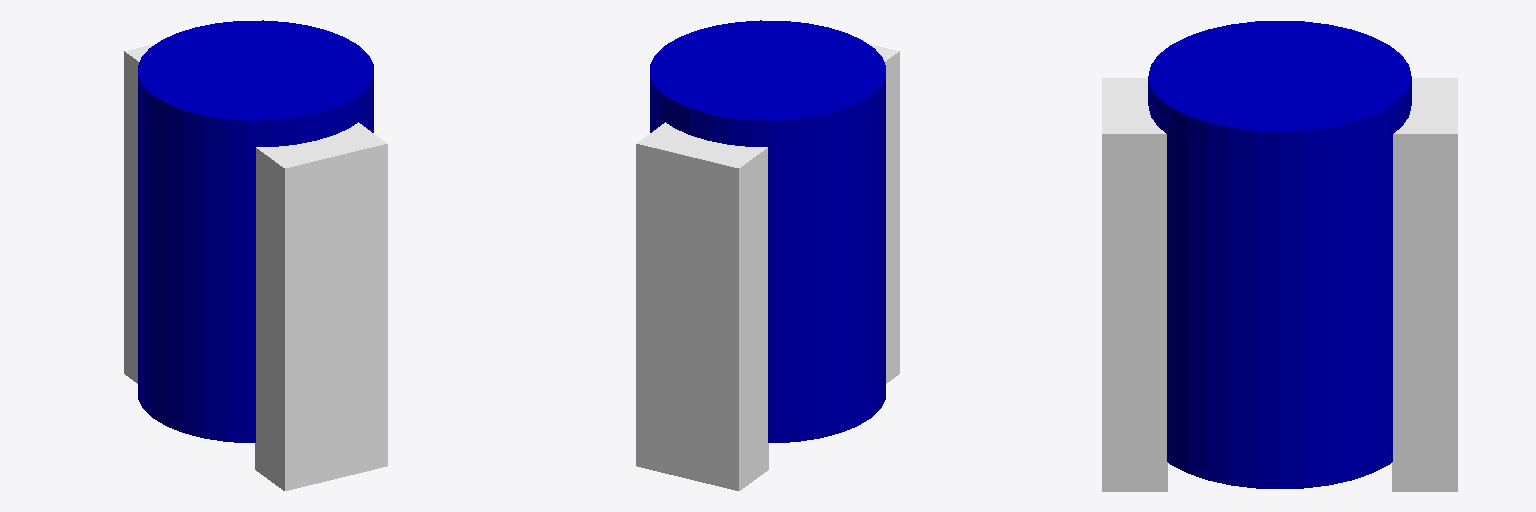
robot.urdf — myfirstrobot:
<?xml version="1.0"?>

<robot name="myfirstrobot">

	<material name="blue">
		<color rgba="0 0 0.8 1"/>
	</material>

	<material name="white">
		<color rgba="1 1 1 1"/>
	</material>

  <link name="base_link">
    <visual>
      <geometry>
        <cylinder length="0.6" radius="0.2"/>
      </geometry>
      <material name="blue"/>
    </visual>
  </link>

  <link name="right_leg">
  	<visual>
  		<geometry>
  			<box size="0.6 0.1 0.2"/>
  		</geometry>
  		<origin rpy="0 1.571 0"  xyz="0 0 -0.3"/>
  		<material name="white"/>
  	</visual>
  </link>

  <joint name="base_to_right_leg" type="fixed">
  	<parent link="base_link"/>
  	<child link="right_leg"/>
  	<origin xyz="0 -0.22 0.25"/>
  </joint>

  <link name="left_leg">
  	<visual>
  		<geometry>
  			<box size="0.6 0.1 0.2"/>
  		</geometry>
  		<origin rpy="0 1.571 0"  xyz="0 0 -0.3"/>
  		<material name="white"/>
  	</visual>
  </link>

  <joint name="base_to_left_leg" type="fixed">
  	<parent link="base_link"/>
  	<child link="left_leg"/>
  	<origin xyz="0 0.22 0.25"/>
  </joint>

</robot>

--- Render facts (derived) ---
The picture shows the robot from 3 angles, left to right: view 1: azimuth 30°, elevation 25°; view 2: azimuth 150°, elevation 25°; view 3: azimuth 270°, elevation 25°; orthographic projection.
Model myfirstrobot with 3 links and 2 joints (2 fixed), rooted at base_link, posed all joints at 0.
Visible links, largest first — view 1: base_link, right_leg, left_leg; view 2: base_link, left_leg, right_leg; view 3: base_link, right_leg, left_leg.
Link boxes in pixels (box(x1,y1,x2,y2)): base_link: box(138, 20, 373, 442); right_leg: box(255, 122, 387, 490); left_leg: box(124, 44, 154, 383); base_link: box(650, 20, 885, 442); left_leg: box(636, 122, 768, 490); right_leg: box(869, 44, 899, 383); base_link: box(1148, 21, 1411, 488); right_leg: box(1102, 78, 1167, 491); left_leg: box(1392, 78, 1457, 491).
Bounding box of the posed robot: 0.4 × 0.54 × 0.65 m (x, y, z).
Geometry: primitives only (box / cylinder / sphere), no mesh files.